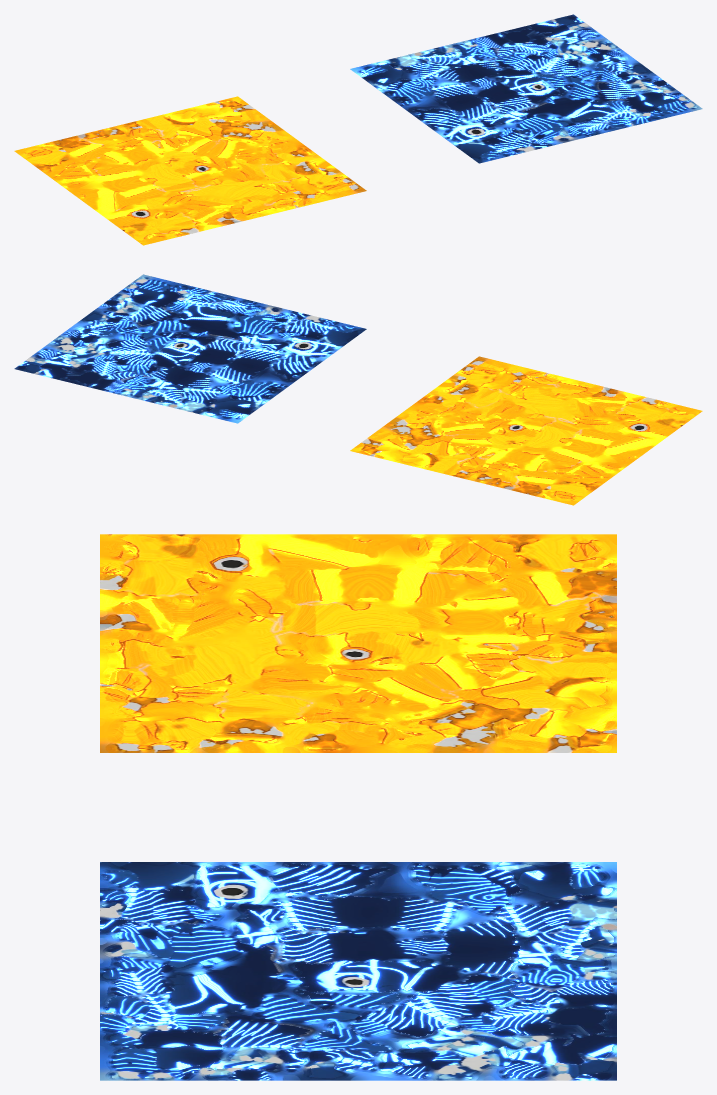
File: Cuda_ShadesPatch.glb
3 renders of one model, top to bottom at view 1: azimuth 30°, elevation 25°; view 2: azimuth 150°, elevation 25°; view 3: azimuth 270°, elevation 25°, orthographic. The views are drawn at different scales.
Visible parts, largest first — view 1: CatchGolden, Xray; view 2: CatchGolden, Xray; view 3: CatchGolden, Xray.
Part boxes in pixels (left/top/right/bottom): CatchGolden: left=14, top=96, right=366, bottom=245; Xray: left=350, top=14, right=702, bottom=163; CatchGolden: left=350, top=356, right=702, bottom=505; Xray: left=14, top=274, right=366, bottom=423; CatchGolden: left=100, top=534, right=616, bottom=752; Xray: left=100, top=862, right=616, bottom=1080.
Bounding box in the file's own units: 0.5 × 0 × 0.2.
Materials: 2 (2 with a texture image).
